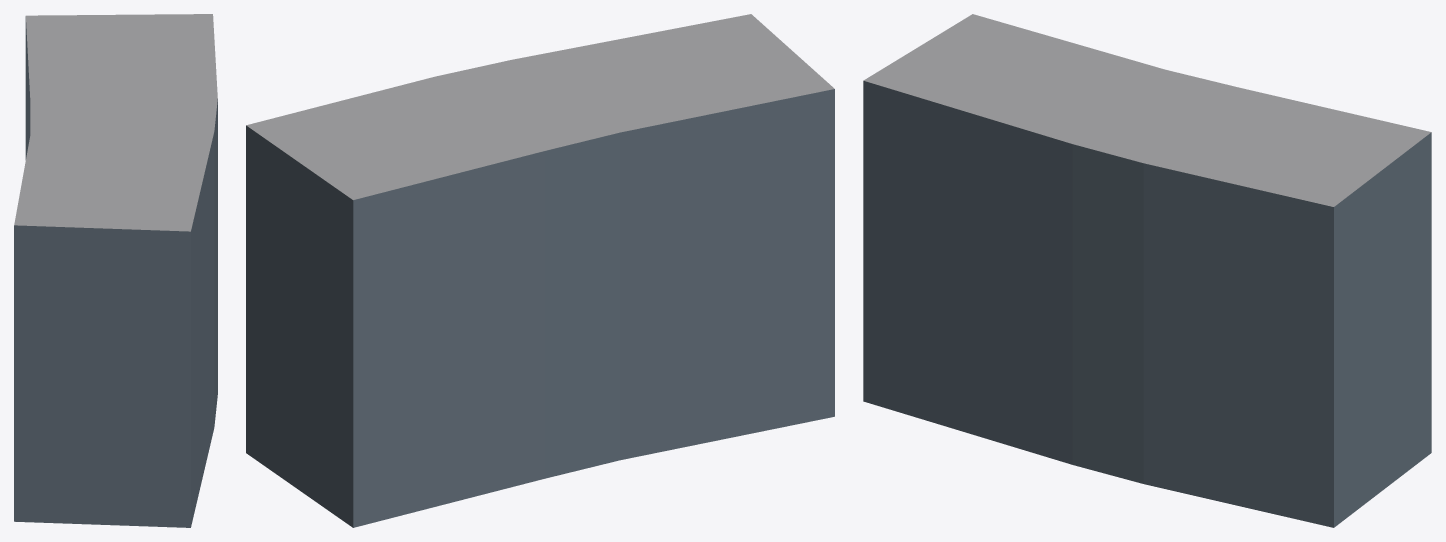
The model's file is building_2_6.glb.
The picture shows the model from 3 angles, left to right: view 1: azimuth 30°, elevation 25°; view 2: azimuth 150°, elevation 25°; view 3: azimuth 270°, elevation 25°; orthographic projection. The views are drawn at different scales.
Parts seen in each view (by area): view 1: glass_dark, roof; view 2: glass_dark, roof; view 3: glass_dark, roof.
Boxes of the visible parts, left/top/right/bottom form: glass_dark: left=14, top=16, right=217, bottom=527; roof: left=14, top=14, right=217, bottom=231; glass_dark: left=246, top=89, right=834, bottom=527; roof: left=246, top=14, right=834, bottom=199; glass_dark: left=863, top=80, right=1431, bottom=527; roof: left=864, top=14, right=1431, bottom=206.
Size of the model in its own units: 110 by 85 by 136.
